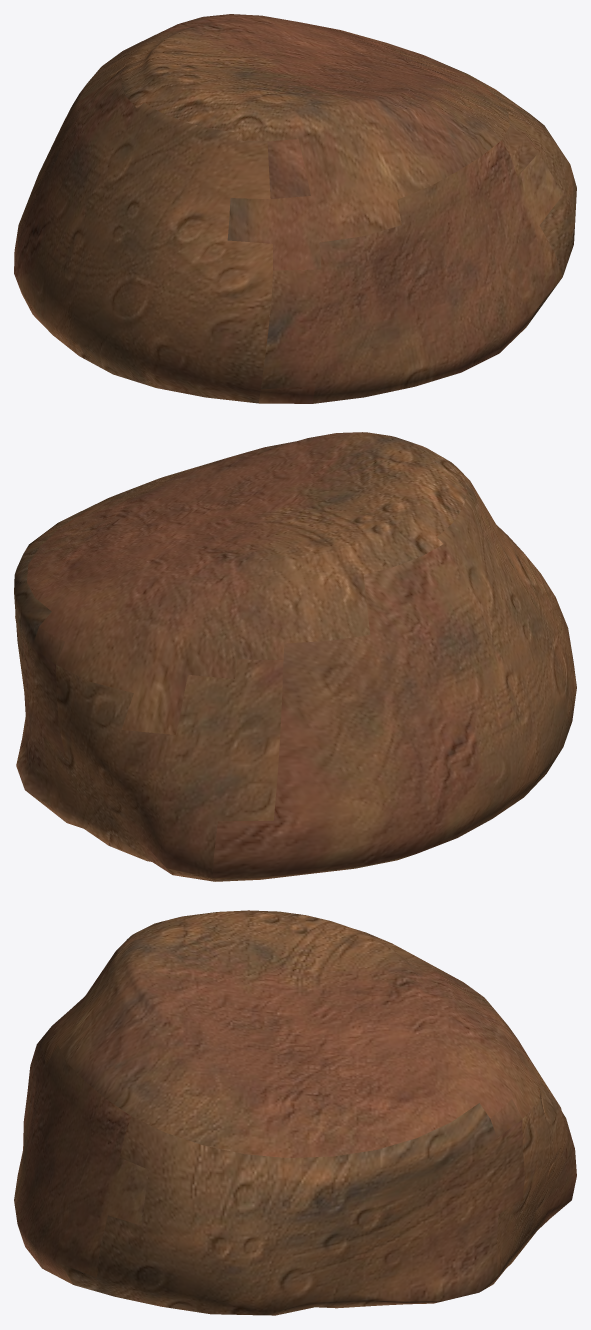
The model's file is MarsRock1.obj.
3 views of the same model, one above another, from view 1: azimuth 30°, elevation 25°; view 2: azimuth 150°, elevation 25°; view 3: azimuth 270°, elevation 25° (orthographic). The views are drawn at different scales.
Visible parts, largest first — view 1: Rocks1; view 2: Rocks1; view 3: Rocks1.
Part boxes in pixels (x1=…): Rocks1: x1=14, y1=14, x2=576, y2=403; Rocks1: x1=14, y1=432, x2=576, y2=881; Rocks1: x1=14, y1=910, x2=576, y2=1315.
Bounding box in the file's own units: 0.4656 × 0.2503 × 0.4546.
Materials: 1 (1 with a texture image).
